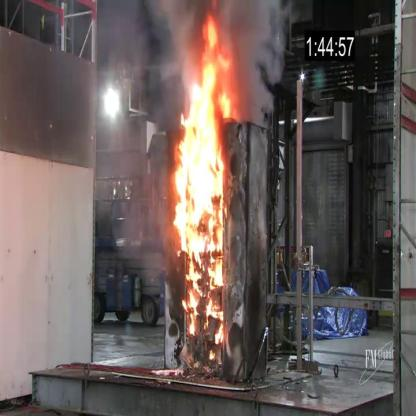fire: (170, 10, 232, 363)
